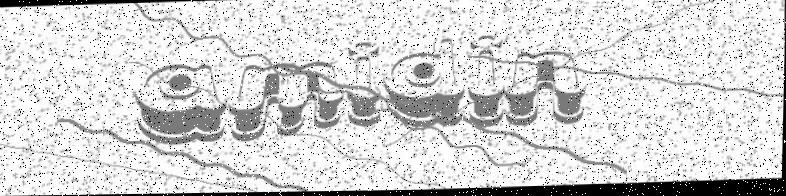a: (133, 62, 227, 147)
d: (383, 39, 467, 132)
i: (466, 34, 505, 130), (345, 41, 385, 129)
m: (225, 62, 346, 143)
n: (501, 51, 589, 128)
